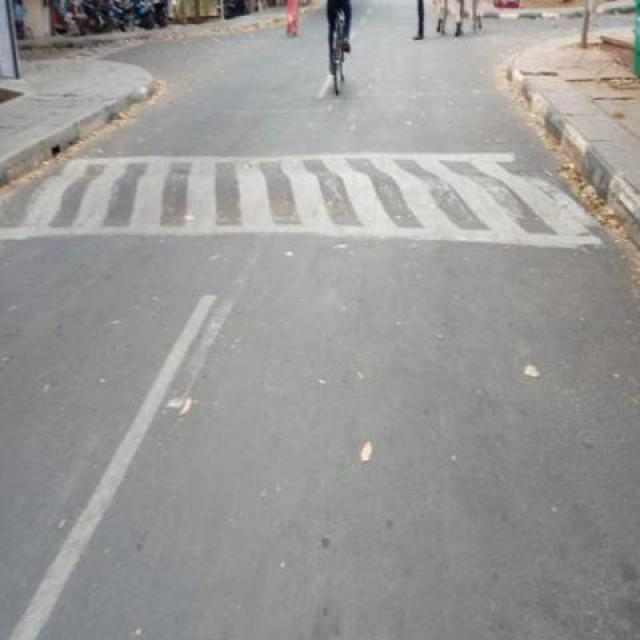Speed Bump: (1, 152, 595, 243)
